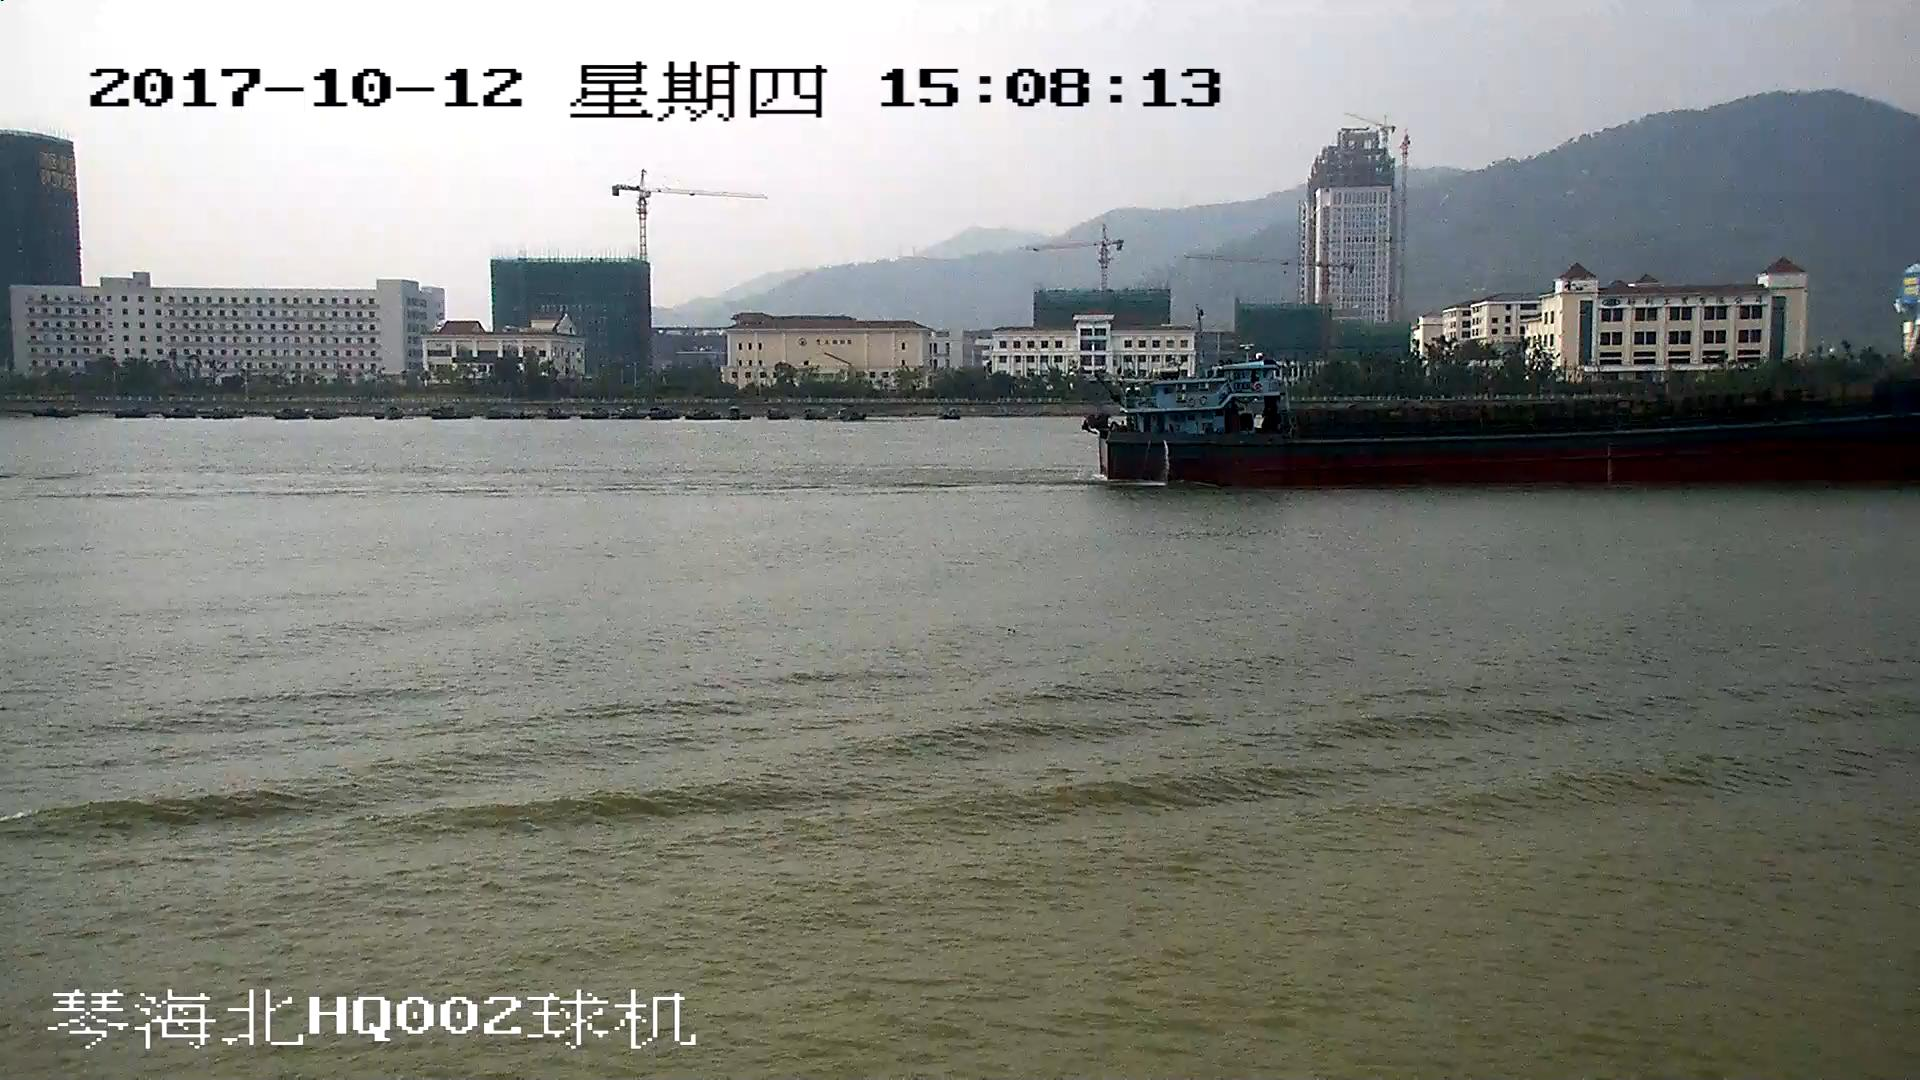bulk cargo carrier: (1088, 365, 1920, 489)
